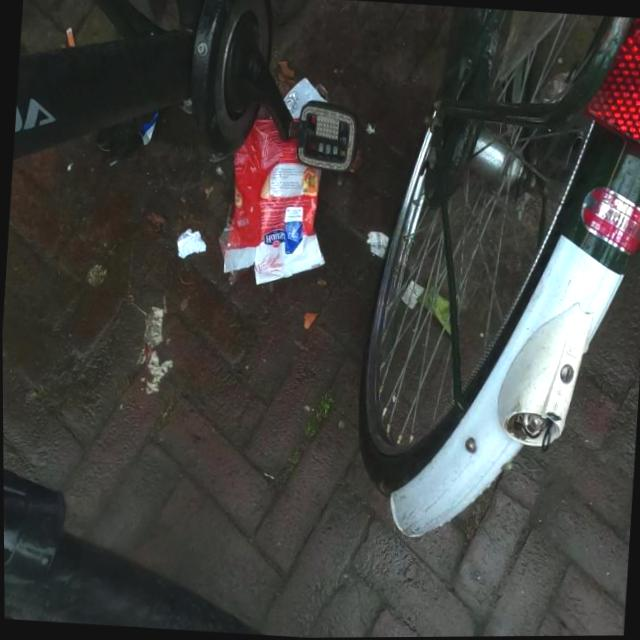Paper: (131, 303, 176, 396), (173, 225, 208, 260), (363, 228, 389, 258)
Plastic: (219, 67, 338, 290), (134, 108, 158, 146), (398, 278, 424, 310)
